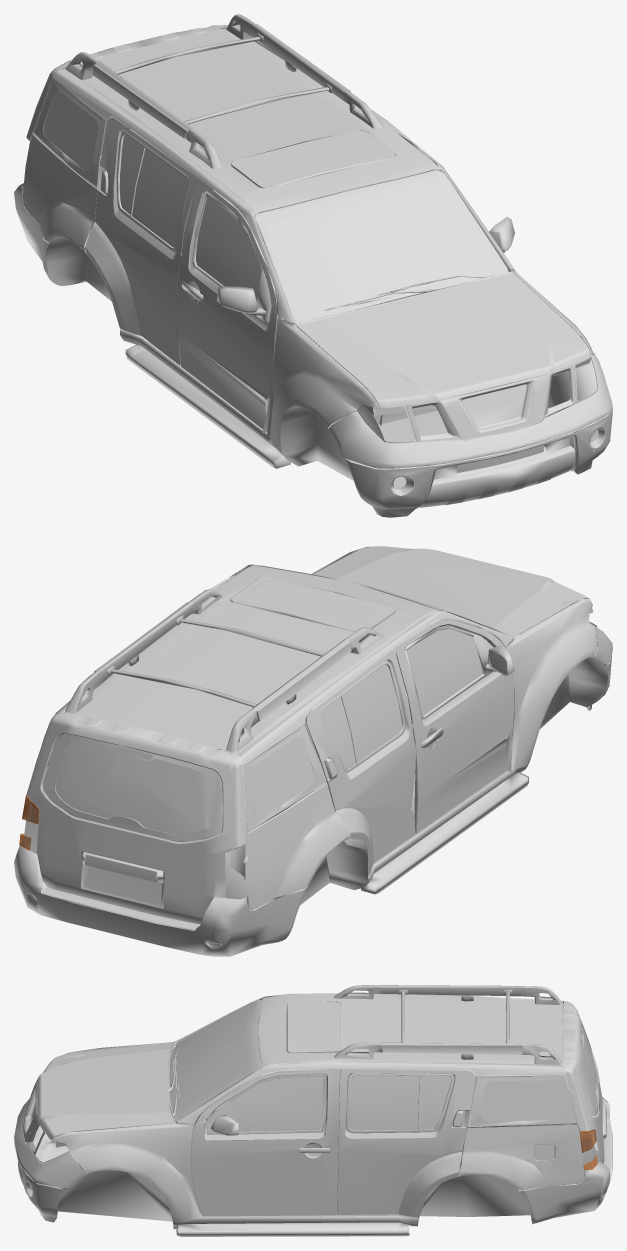
The model's file is Parado-18-11.fbx.
The picture shows the model from 3 angles, top to bottom: view 1: azimuth 30°, elevation 25°; view 2: azimuth 150°, elevation 25°; view 3: azimuth 270°, elevation 25°; orthographic projection. The views are drawn at different scales.
Visible parts, largest first — view 1: pathfinder.909, pathfinder.015, pathfinder.005, pathfinder.018, pathfinder.061, pathfinder.052, pathfinder.226, pathfinder.028, pathfinder.010, pathfinder.002, pathfinder.019, pathfinder.038 (+7 smaller); view 2: pathfinder.909, pathfinder.876, pathfinder.052, pathfinder.018, pathfinder.005, pathfinder.061, pathfinder.016, pathfinder.226, pathfinder.010, pathfinder.002, pathfinder.015, pathfinder.019 (+6 smaller); view 3: pathfinder.909, pathfinder.031, pathfinder.107, pathfinder.052, pathfinder.005, pathfinder.015, pathfinder.012, pathfinder.226, pathfinder.011, pathfinder.044, pathfinder.876, pathfinder.013 (+10 smaller).
Part boxes in pixels (x1,y1,x2,y2): pathfinder.909: [22, 28, 612, 507]; pathfinder.015: [43, 41, 507, 321]; pathfinder.005: [295, 271, 592, 407]; pathfinder.018: [178, 178, 276, 428]; pathfinder.061: [85, 117, 196, 365]; pathfinder.052: [14, 183, 602, 507]; pathfinder.226: [65, 14, 383, 169]; pathfinder.028: [369, 435, 595, 517]; pathfinder.010: [120, 134, 187, 247]; pathfinder.002: [196, 196, 261, 300]; pathfinder.019: [231, 130, 394, 186]; pathfinder.038: [406, 365, 576, 441]; pathfinder.909: [24, 546, 612, 909]; pathfinder.876: [26, 713, 246, 924]; pathfinder.052: [14, 656, 607, 956]; pathfinder.018: [395, 619, 514, 833]; pathfinder.005: [314, 546, 588, 637]; pathfinder.061: [306, 649, 415, 874]; pathfinder.016: [55, 734, 221, 834]; pathfinder.226: [65, 589, 383, 752]; pathfinder.010: [322, 664, 401, 768]; pathfinder.002: [407, 629, 482, 715]; pathfinder.015: [63, 565, 477, 816]; pathfinder.019: [232, 577, 394, 631]; pathfinder.909: [14, 993, 583, 1226]; pathfinder.031: [191, 1069, 339, 1216]; pathfinder.107: [337, 1069, 475, 1217]; pathfinder.052: [36, 1096, 610, 1227]; pathfinder.005: [37, 1042, 175, 1140]; pathfinder.015: [170, 999, 562, 1126]; pathfinder.012: [349, 1075, 451, 1130]; pathfinder.226: [334, 985, 562, 1064]; pathfinder.011: [228, 1076, 322, 1131]; pathfinder.044: [176, 1222, 409, 1236]; pathfinder.876: [562, 1001, 606, 1163]; pathfinder.013: [188, 1001, 593, 1213].
Bounding box in the file's own units: 679 × 511 × 1578.
